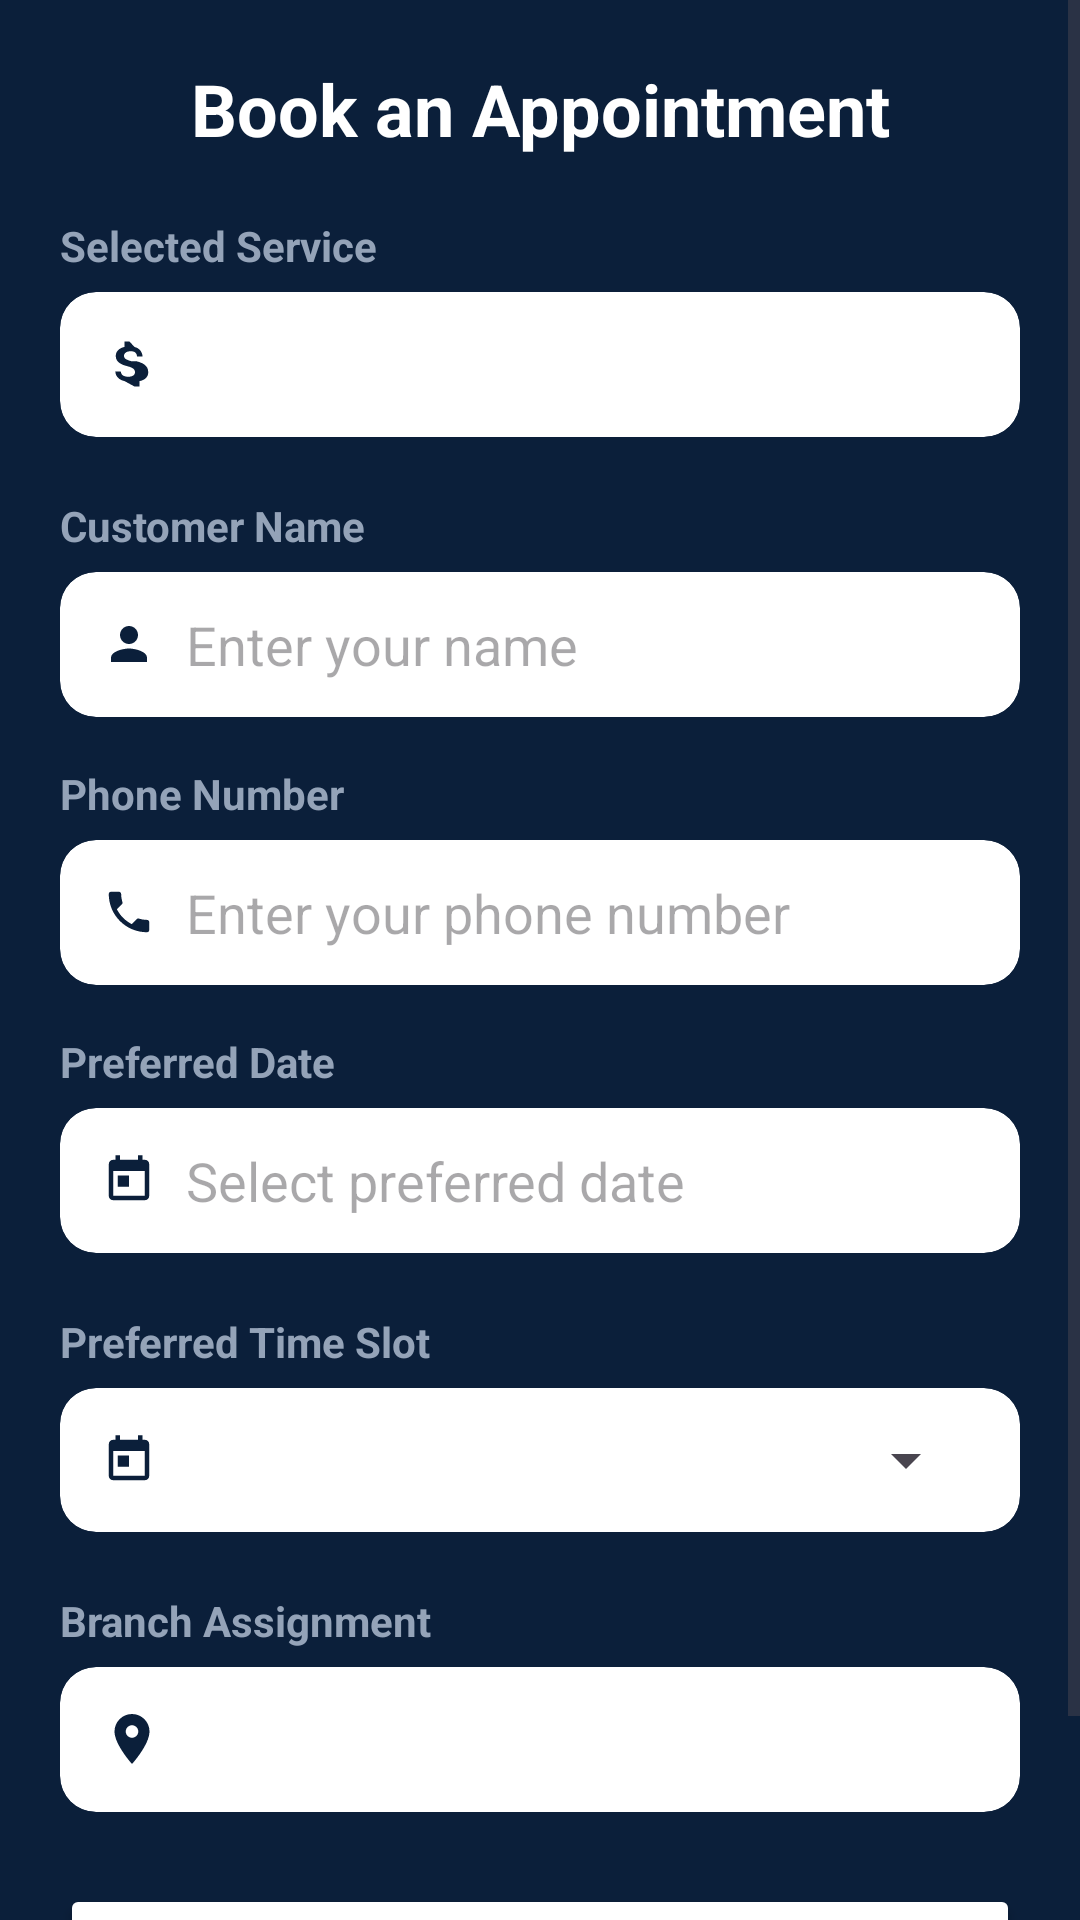

Locate icon controls on the screen. Image size 1080px x 1920px, boxes as (x1, y1, x2, y2).
calendar: (108, 1155, 150, 1201), (108, 1435, 150, 1481)
location: (114, 1714, 150, 1764)
person: (111, 626, 147, 662)
price: (115, 341, 149, 387)
